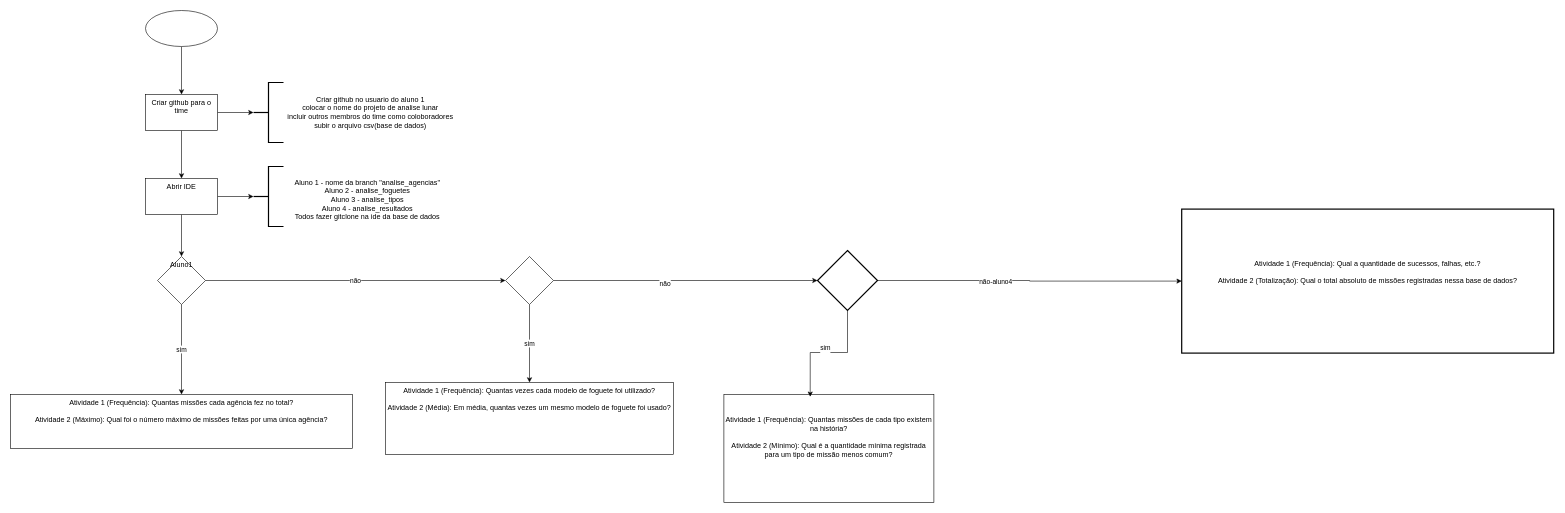
The diagram is 1565 pixels wide and 513 high, and some of its shapes have lost their labels. Here are the shapes that lost their labels. From the top down, the centre of each, then its label:
At pixel 181 28: "Inicio do projeto".
At pixel 529 280: "Aluno2".
At pixel 847 280: "Aluno3".
